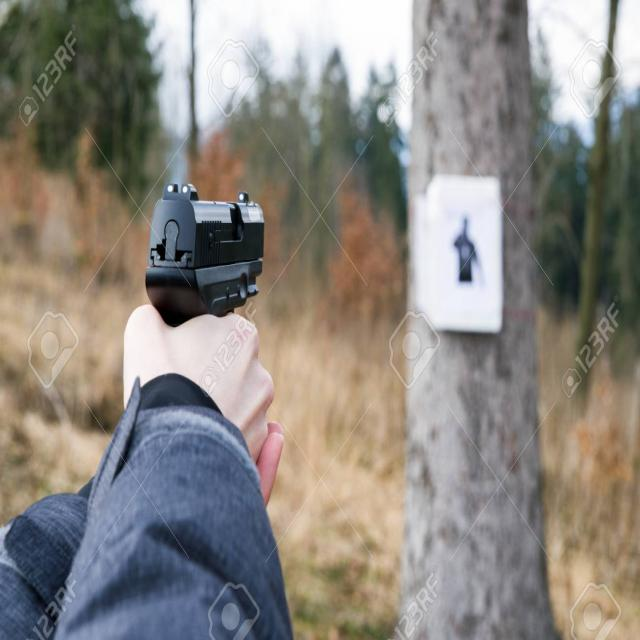handgun: (141, 179, 290, 420)
